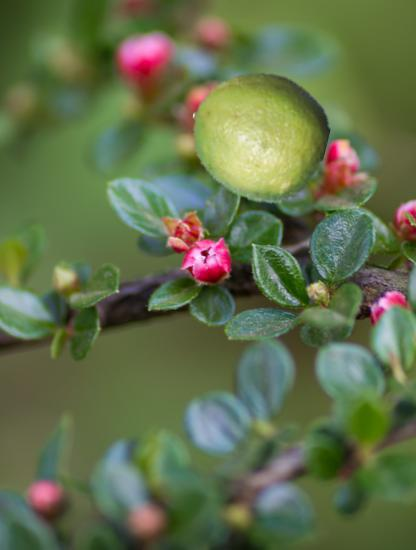Limes: (190, 68, 327, 205)
